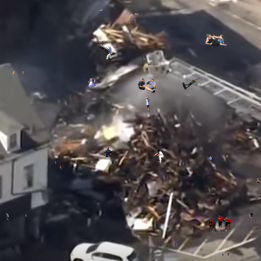Human: (206, 215, 232, 232), (182, 76, 202, 91), (138, 78, 156, 93), (205, 34, 227, 46), (128, 13, 144, 28), (152, 149, 164, 163), (55, 161, 69, 169), (104, 147, 113, 158), (105, 46, 112, 60), (88, 77, 96, 88), (146, 97, 150, 112), (12, 71, 24, 75), (97, 41, 104, 47), (222, 252, 230, 257), (6, 213, 11, 221), (36, 227, 39, 235), (191, 171, 198, 174), (256, 178, 260, 183), (22, 213, 27, 217), (207, 156, 212, 160), (112, 42, 118, 45), (74, 160, 77, 164), (250, 213, 253, 217), (99, 9, 104, 11), (148, 63, 151, 66)
